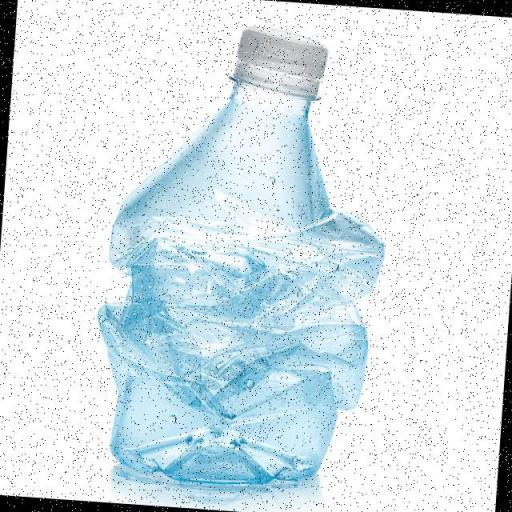bottle: (98, 27, 382, 483)
